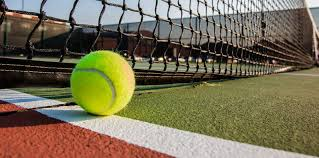tennis_ball: (70, 49, 136, 117)
